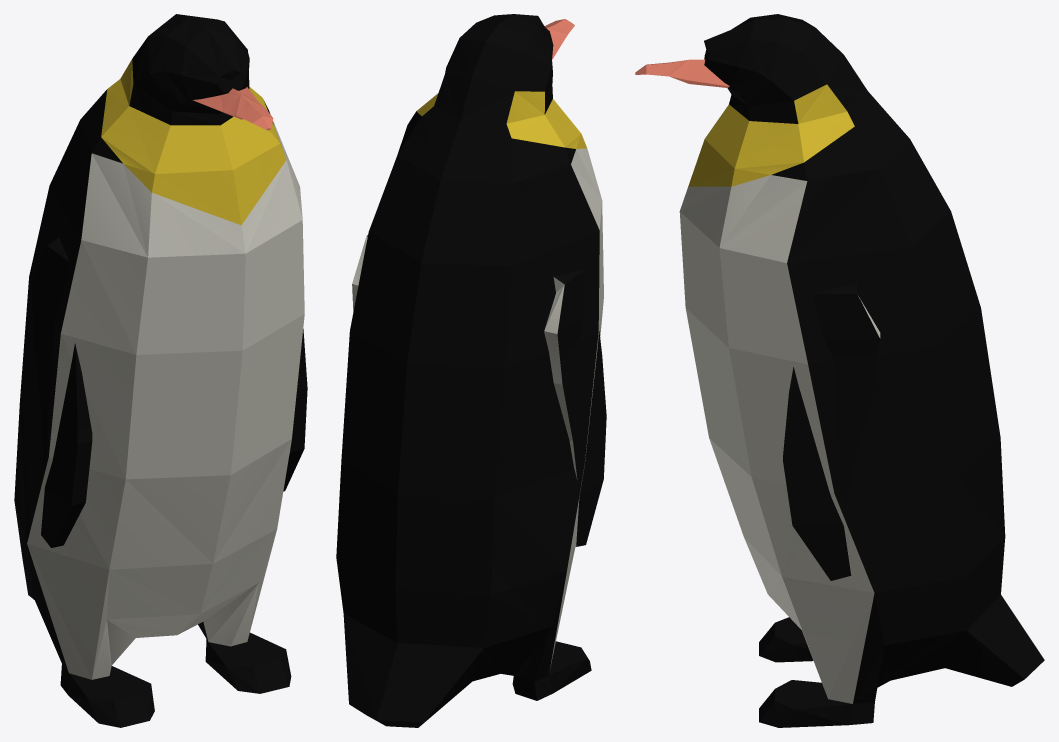
File: penguin_lod0.glb
The picture shows the model from 3 angles, left to right: view 1: azimuth 30°, elevation 25°; view 2: azimuth 150°, elevation 25°; view 3: azimuth 270°, elevation 25°; orthographic projection. The views are drawn at different scales.
Parts seen in each view (by area): view 1: penguin; view 2: penguin; view 3: penguin.
Part boxes in pixels (x1,y1,x2,y2): penguin: (14, 14, 307, 727); penguin: (336, 14, 606, 727); penguin: (635, 14, 1044, 727).
Bounding box in the file's own units: 0.3111 × 0.85 × 0.4758.
